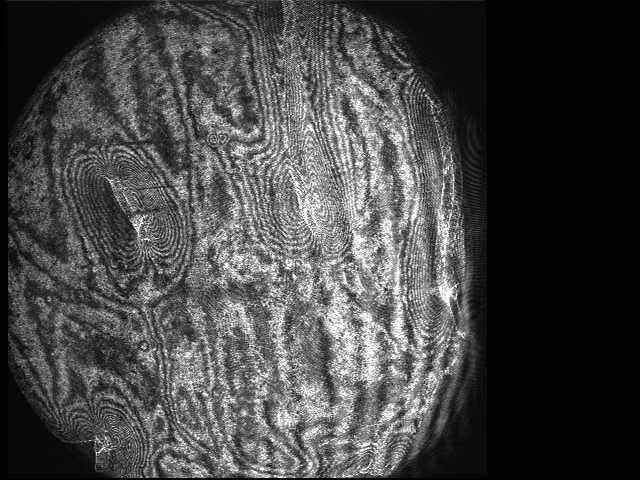plume: (70, 147, 185, 270)
